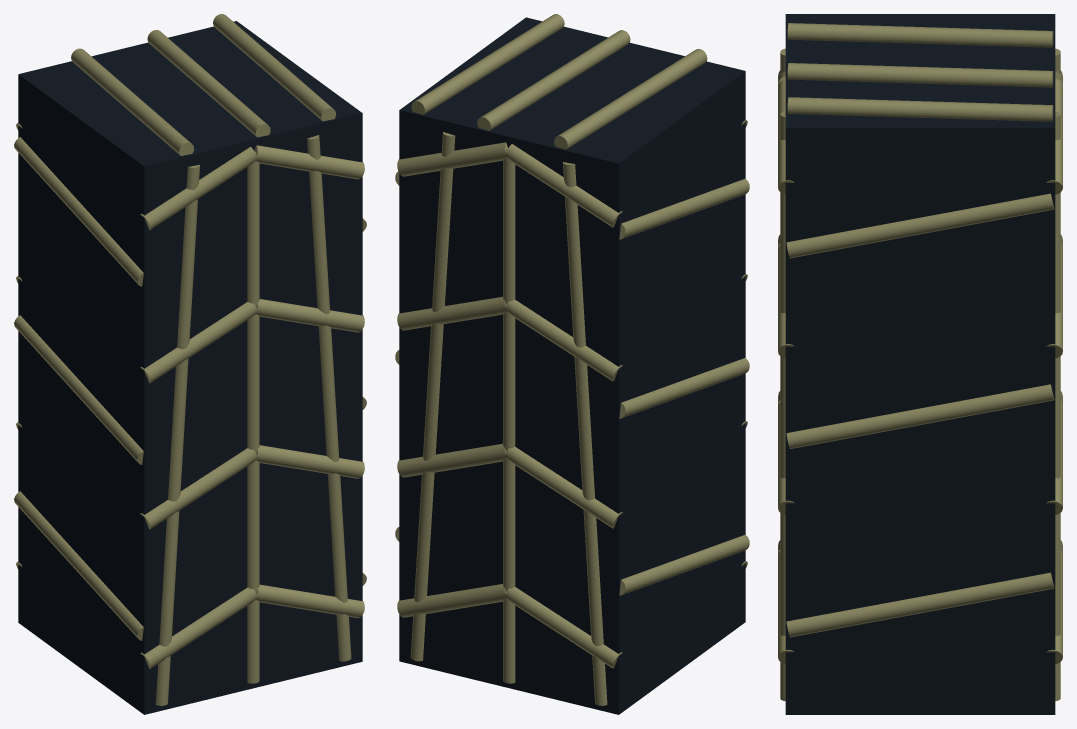
The model's file is CMU3DHiveWallXenoResinReflective.glb.
3 views of the same model, side by side, from view 1: azimuth 30°, elevation 25°; view 2: azimuth 150°, elevation 25°; view 3: azimuth 270°, elevation 25° (orthographic). The views are drawn at different scales.
Visible parts, largest first — view 1: continuous sealed resin core, vertical exoskeletal rib (×3), front and rear sweeping rib (×8), roof rib (×3), finished side rib (×3); view 2: continuous sealed resin core, vertical exoskeletal rib (×3), front and rear sweeping rib (×8), roof rib (×3), finished side rib (×3); view 3: continuous sealed resin core, roof rib (×3), finished side rib (×3), vertical exoskeletal rib (×2), front and rear sweeping rib (×8).
Part boxes in pixels (box(x1,y1,x2,y2)): continuous sealed resin core: box(18, 21, 362, 714); vertical exoskeletal rib (×3): box(155, 135, 351, 705); front and rear sweeping rib (×8): box(140, 145, 364, 668); roof rib (×3): box(71, 14, 335, 155); finished side rib (×3): box(14, 137, 143, 640); continuous sealed resin core: box(399, 17, 745, 714); vertical exoskeletal rib (×3): box(410, 132, 607, 705); front and rear sweeping rib (×8): box(397, 142, 622, 668); roof rib (×3): box(411, 14, 707, 149); finished side rib (×3): box(619, 179, 749, 595); continuous sealed resin core: box(785, 14, 1055, 714); roof rib (×3): box(787, 23, 1053, 121); finished side rib (×3): box(786, 193, 1054, 637); vertical exoskeletal rib (×2): box(780, 111, 1060, 701); front and rear sweeping rib (×8): box(778, 79, 1062, 664).
Size of the model in its own units: 1.05 by 2.45 by 1.06.
